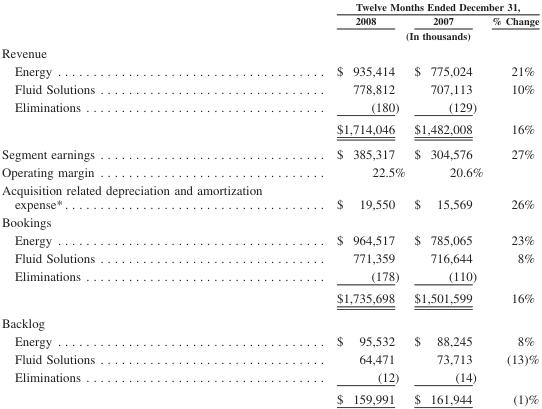table: (0, 0, 538, 405)
table column: (0, 0, 298, 405), (298, 0, 409, 405), (409, 0, 486, 405), (486, 0, 538, 405)
table column header: (0, 0, 538, 43)
table projected row header: (0, 310, 538, 331), (0, 43, 538, 61), (0, 212, 538, 230)
table row: (0, 180, 538, 212), (0, 286, 538, 310), (0, 117, 538, 140), (0, 140, 538, 162), (0, 310, 538, 331), (0, 97, 538, 117), (0, 266, 538, 286), (0, 367, 538, 387), (0, 43, 538, 61), (0, 61, 538, 79), (0, 79, 538, 97), (0, 162, 538, 180), (0, 212, 538, 230), (0, 230, 538, 248), (0, 248, 538, 266), (0, 331, 538, 349), (0, 349, 538, 367), (0, 387, 538, 405), (0, 27, 538, 43), (0, 13, 538, 27), (0, 0, 538, 13)
table spanning cell: (298, 27, 538, 43), (298, 0, 538, 13)
